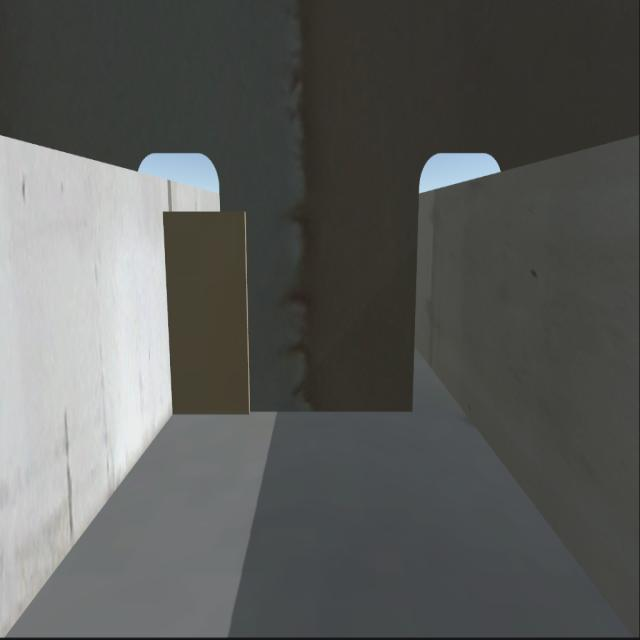fillet_yong_jeop_jang: (171, 399, 411, 421)
longi_yong_jeop_jang: (160, 217, 173, 418)
plate_CP01: (162, 206, 250, 404)
